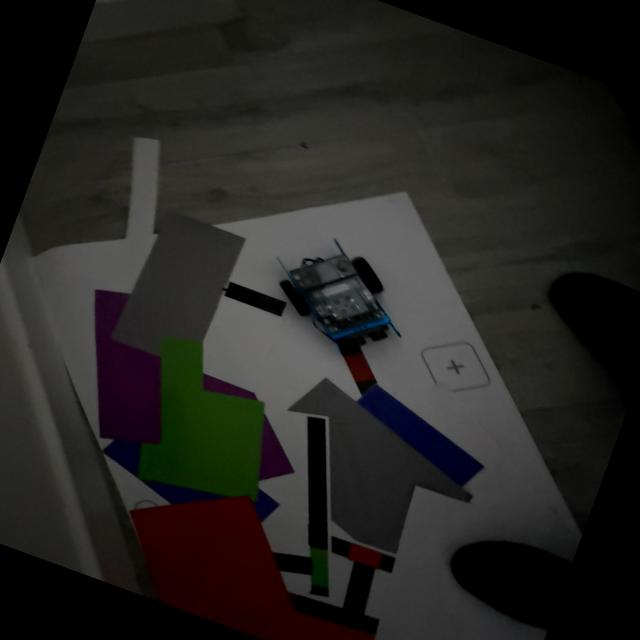mbot-detection: (247, 215, 433, 372)
